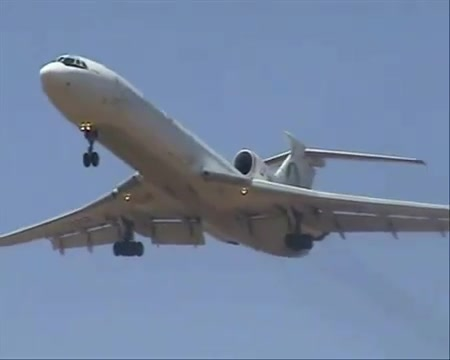aeroplane: (1, 55, 449, 258)
